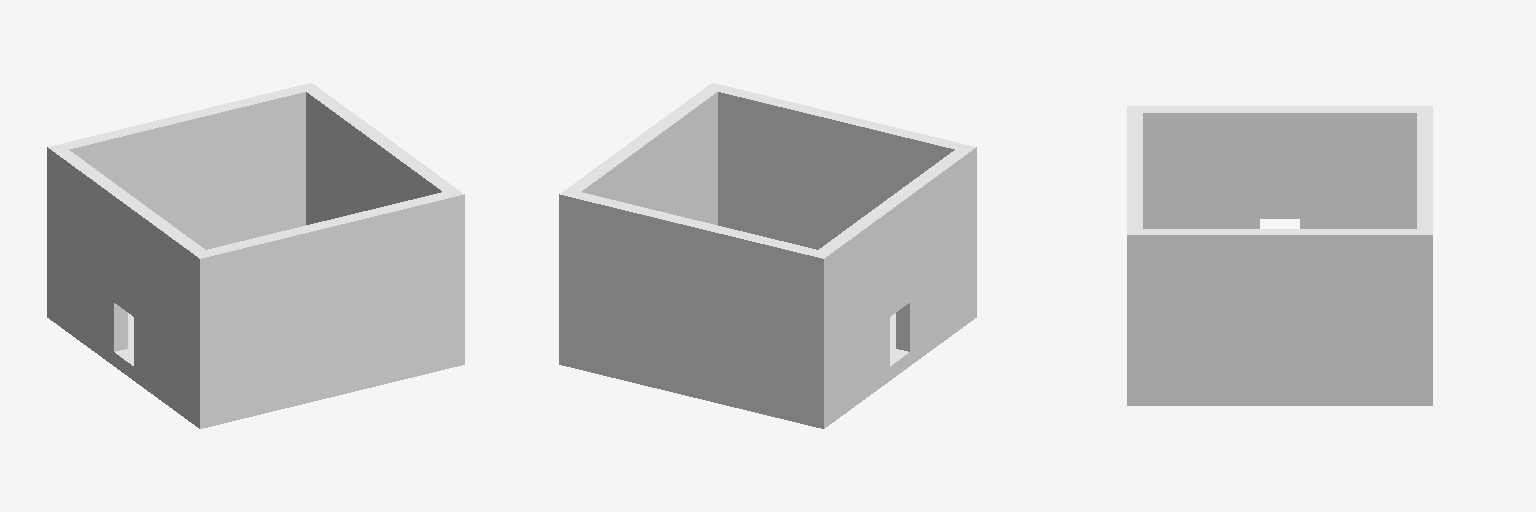
Rendered from DeadEnd.obj.
3 views of the same model, side by side, from view 1: azimuth 30°, elevation 25°; view 2: azimuth 150°, elevation 25°; view 3: azimuth 270°, elevation 25° (orthographic).
Visible parts, largest first — view 1: object 1; view 2: object 1; view 3: object 1.
Boxes of the visible parts, <box> form: object 1: <box>47,83,464,428</box>; object 1: <box>559,83,976,428</box>; object 1: <box>1127,106,1432,405</box>.
Bounding box in the file's own units: 3.9 × 2.4 × 3.9.